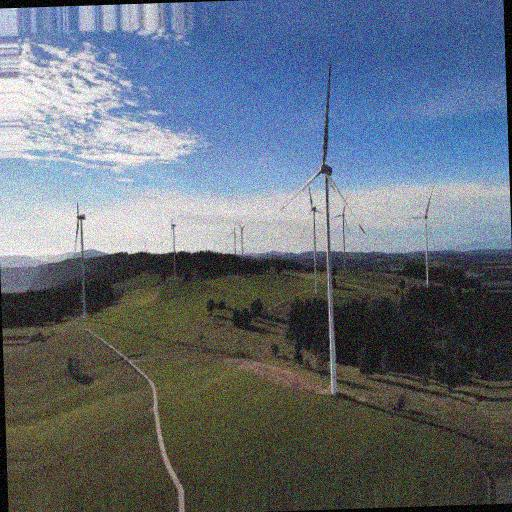wind turbine: (278, 63, 366, 396), (72, 199, 88, 316)
